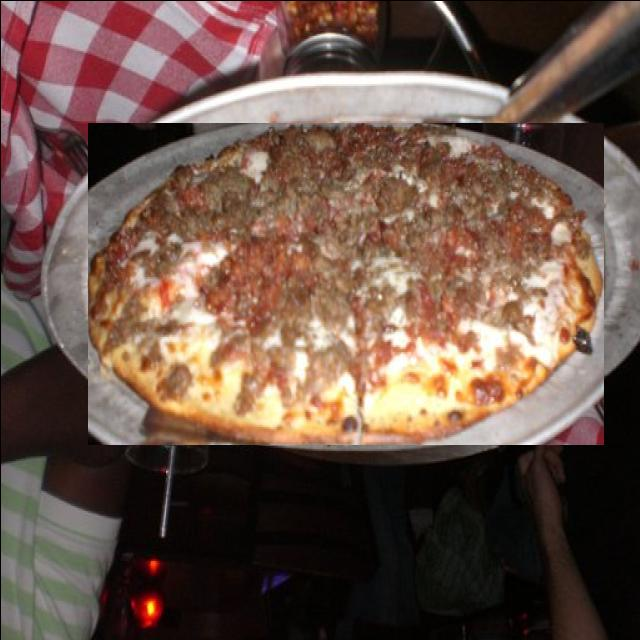pizza: (87, 121, 603, 444)
